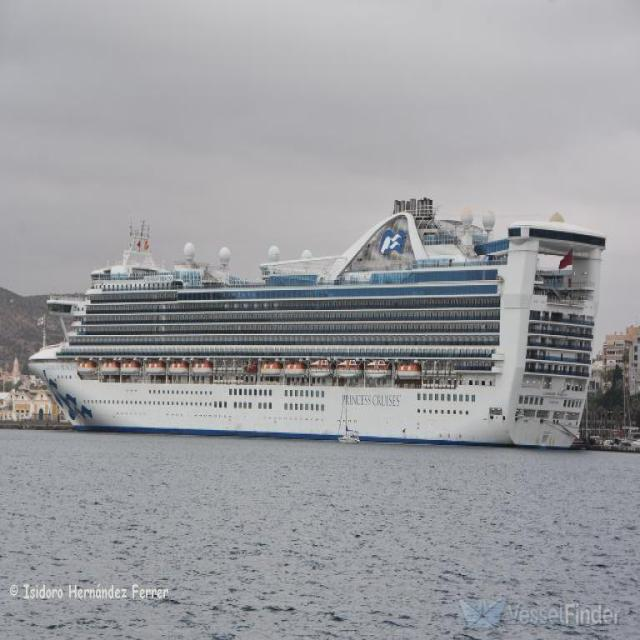PassengerShip: (29, 195, 616, 476)
